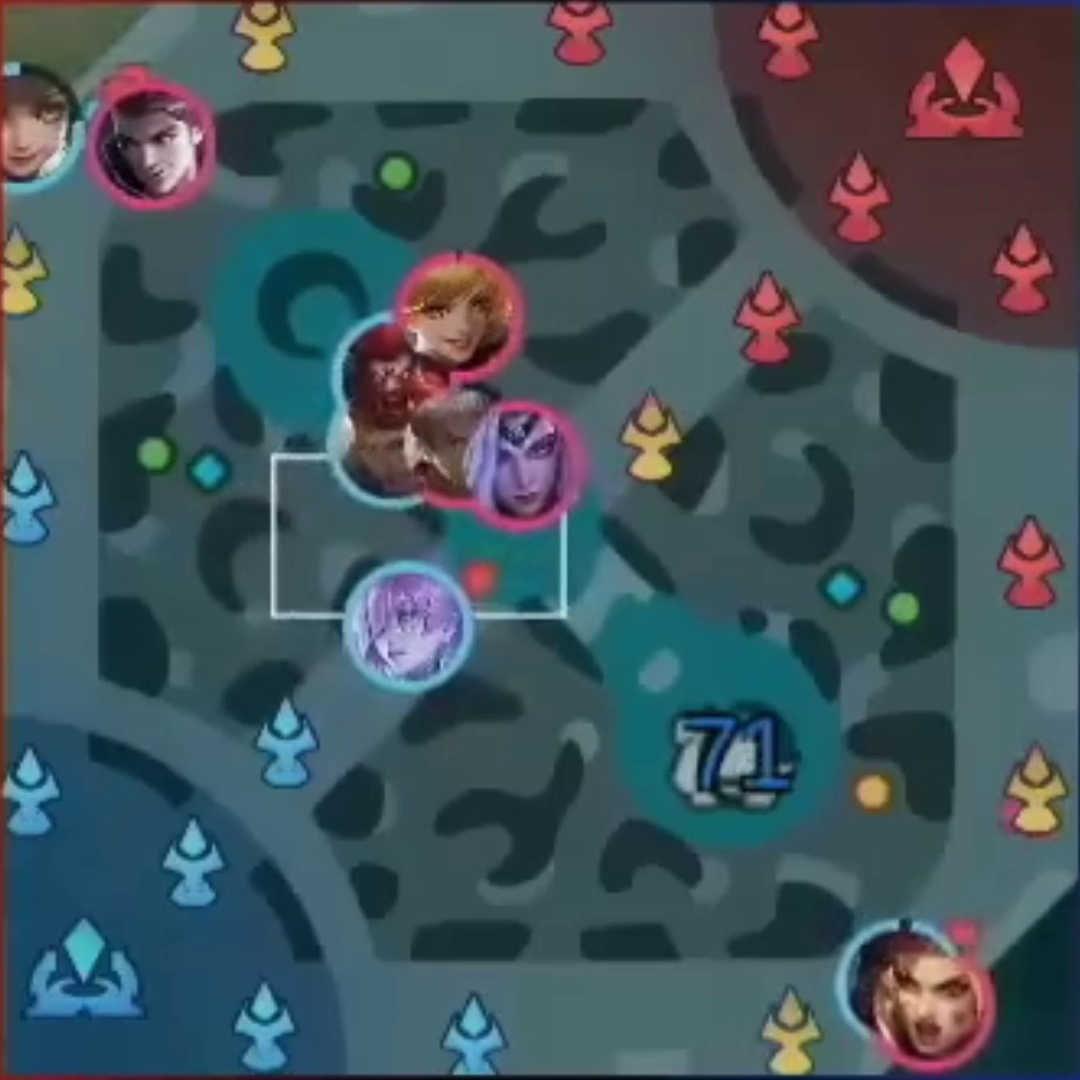Chou: (423, 406, 476, 487)
Claude: (112, 103, 193, 194)
Fanny: (416, 268, 494, 361)
Fredrinn: (354, 430, 413, 501)
Masha: (891, 963, 972, 1053)
Minotaur: (356, 342, 416, 423)
Novaria: (362, 582, 449, 673)
Valentina: (482, 415, 563, 511)
Wanwan: (4, 72, 72, 179)
